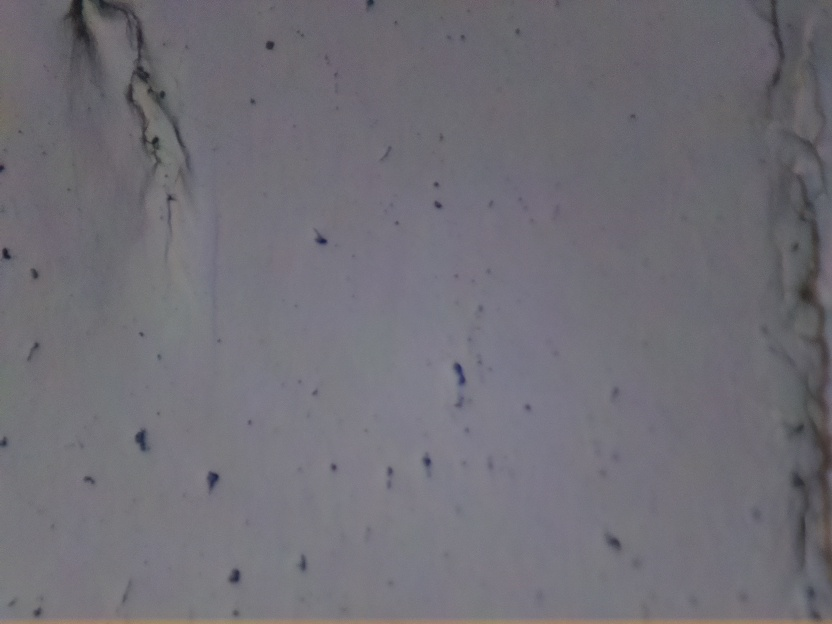crack: (766, 32, 832, 624), (66, 0, 200, 163)
